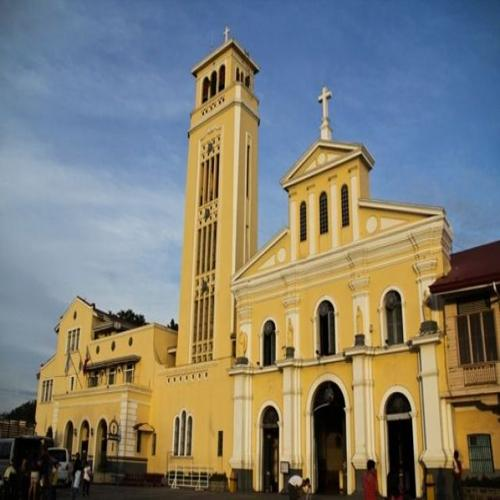Manaoag Church: (183, 17, 455, 500)
